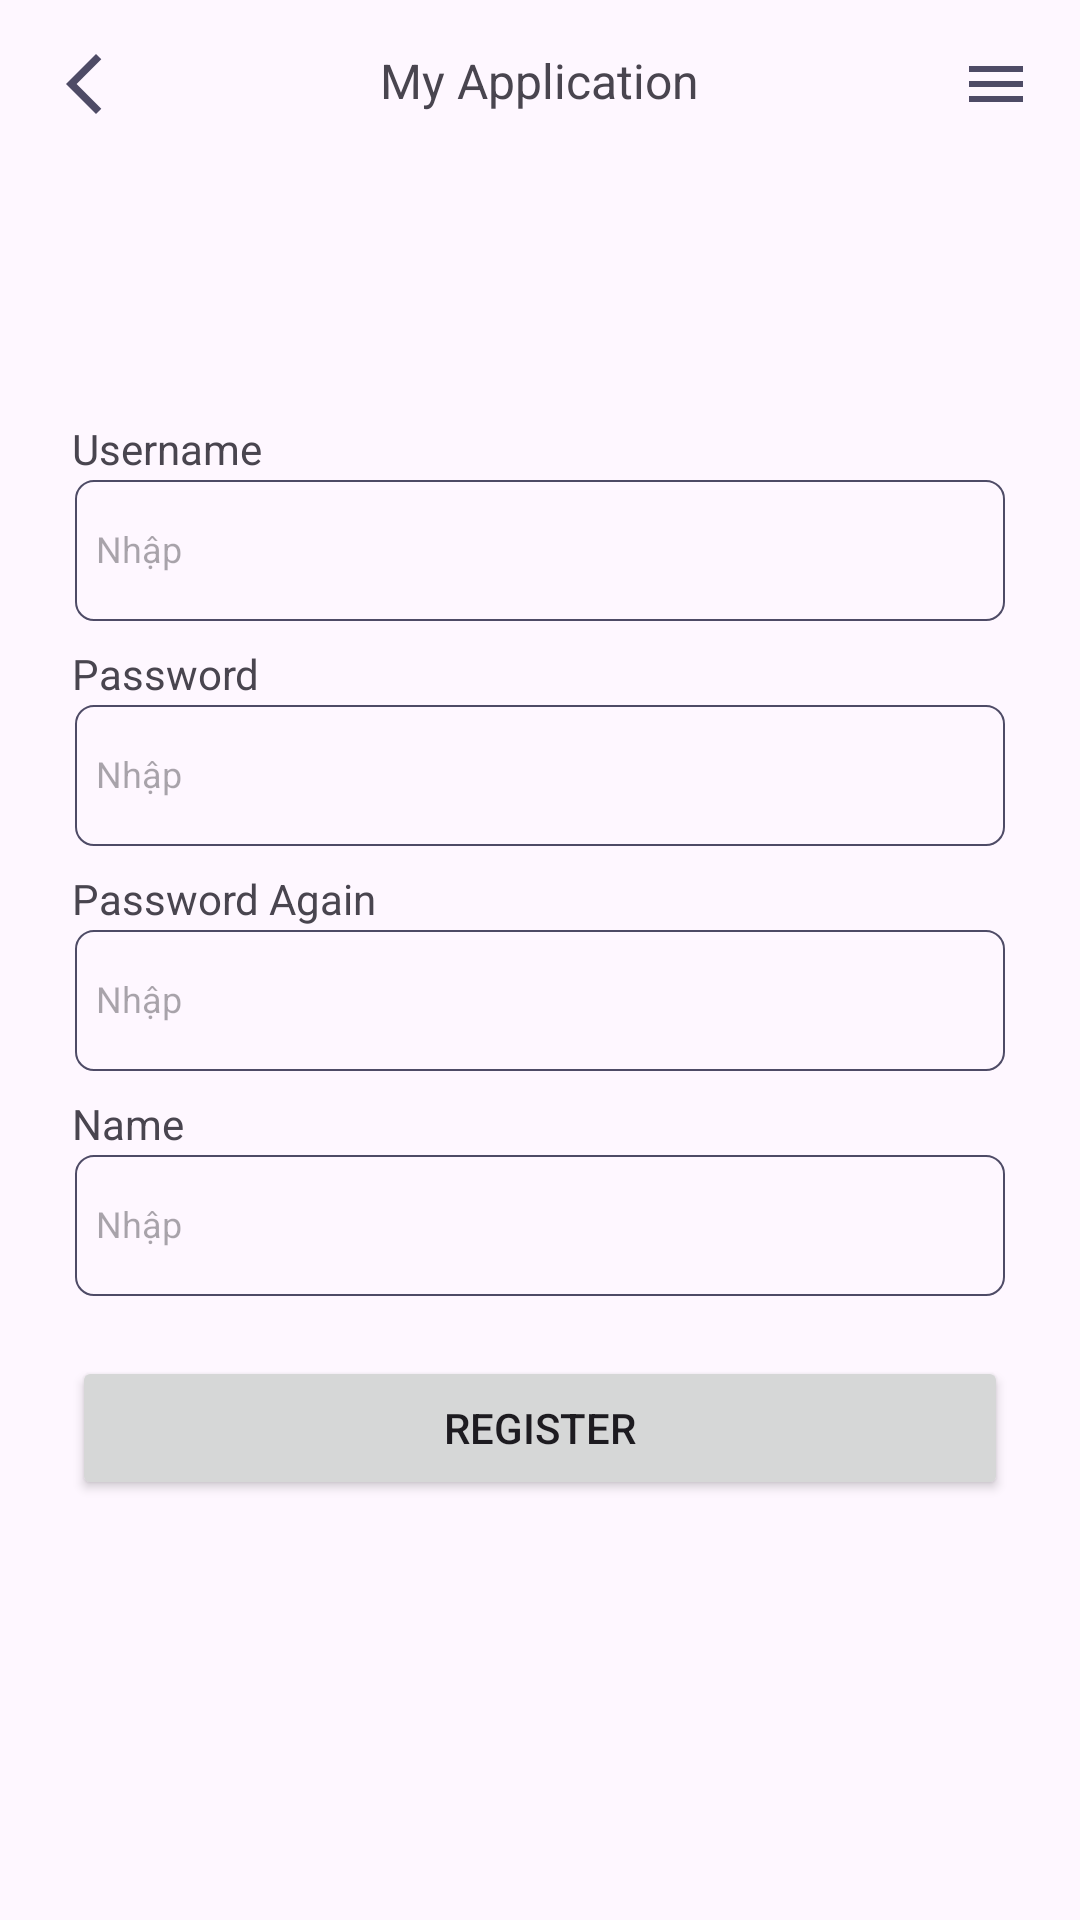

Where to tap for icons on this 1080*1920 app screen, as [x,y]:
arrow back: [83,84]
menu: [996,84]
